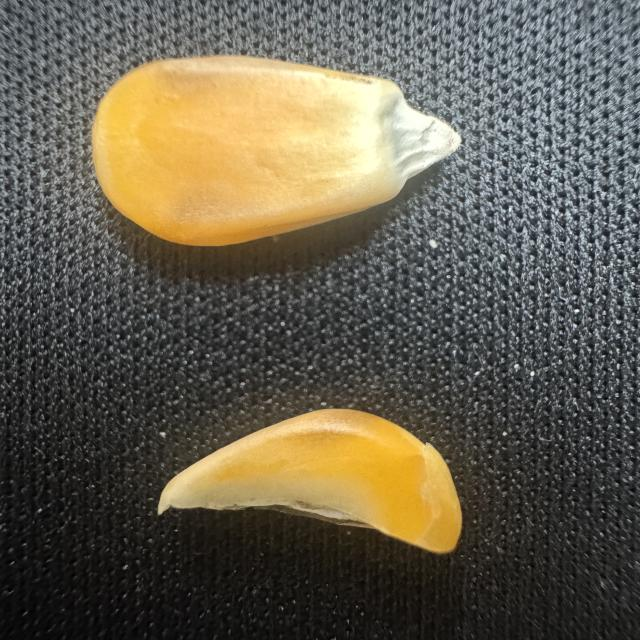Bad-Seed: (144, 399, 477, 568)
Good-Seed: (85, 49, 465, 250)
